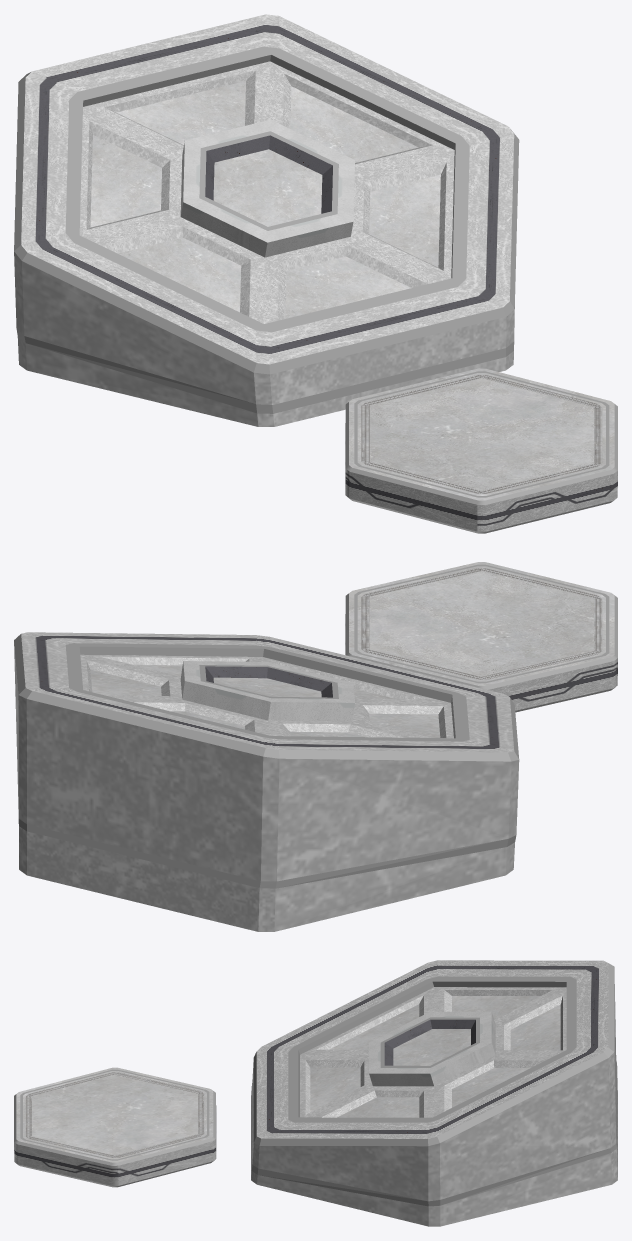
Rendered from Stand_exhibit_01_Art.fbx.
3 views of the same model, one above another, from view 1: azimuth 30°, elevation 25°; view 2: azimuth 150°, elevation 25°; view 3: azimuth 270°, elevation 25° (orthographic). The views are drawn at different scales.
Parts seen in each view (by area): view 1: stand_exhibit_01_2, exhibit_zoom_01_1; view 2: stand_exhibit_01_2, exhibit_zoom_01_1; view 3: stand_exhibit_01_2, exhibit_zoom_01_1.
Part boxes in pixels (box(x1,y1,x2,y2)): stand_exhibit_01_2: box(14, 14, 519, 426); exhibit_zoom_01_1: box(345, 368, 617, 533); stand_exhibit_01_2: box(14, 632, 519, 931); exhibit_zoom_01_1: box(345, 562, 617, 712); stand_exhibit_01_2: box(251, 960, 617, 1226); exhibit_zoom_01_1: box(14, 1067, 216, 1187).
Size of the model in its own units: 215 by 75.91 by 305.
